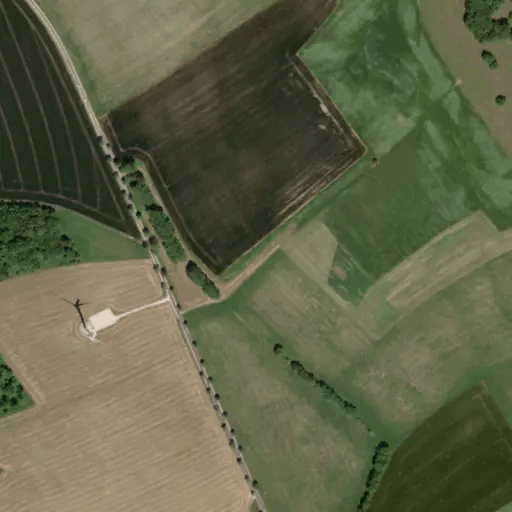wt: (55, 287, 106, 347)
